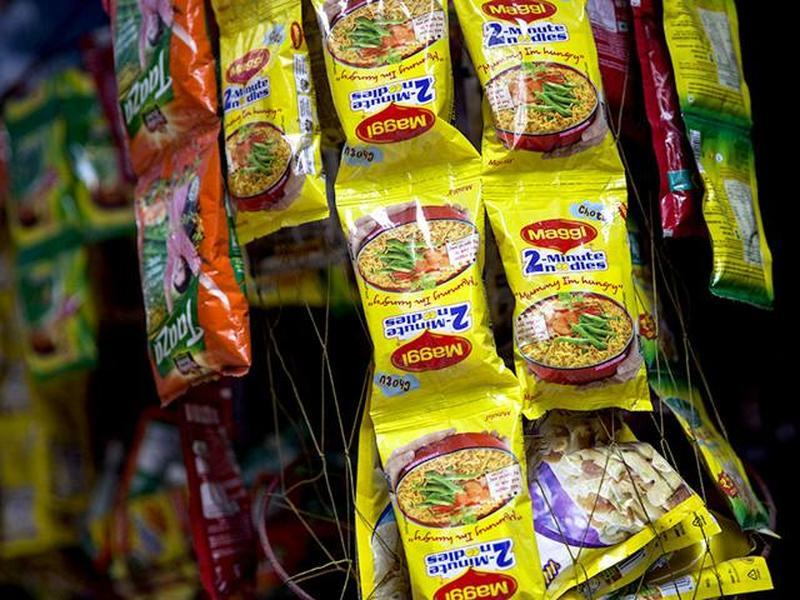maggi-small: (491, 190, 654, 407), (370, 403, 546, 599), (331, 197, 505, 395), (462, 3, 642, 173), (309, 1, 486, 171), (222, 20, 330, 220)
